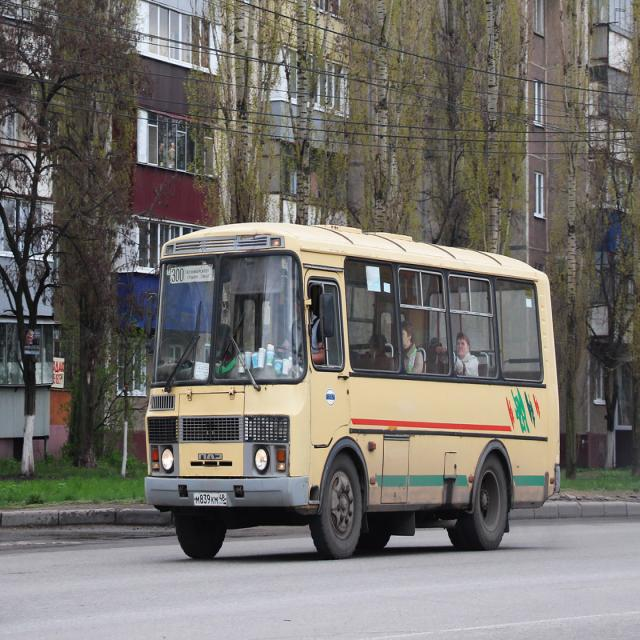number-of-bus: (172, 269, 185, 283)
